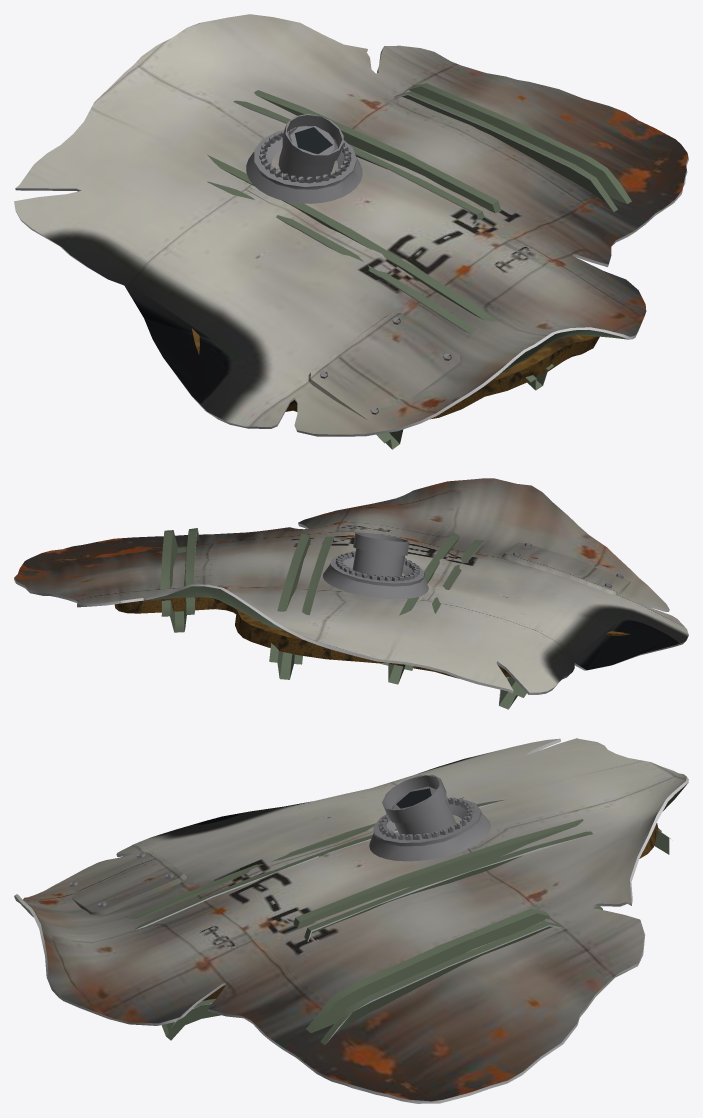
File: capsule_upper_shell_fragment_lod1.glb
The picture shows the model from 3 angles, top to bottom: view 1: azimuth 30°, elevation 25°; view 2: azimuth 150°, elevation 25°; view 3: azimuth 270°, elevation 25°; orthographic projection. The views are drawn at different scales.
Parts seen in each view (by area): view 1: capsule_upper_shell_fragment; view 2: capsule_upper_shell_fragment; view 3: capsule_upper_shell_fragment.
Part boxes in pixels (left/top/right/bottom): capsule_upper_shell_fragment: left=14, top=14, right=688, bottom=449; capsule_upper_shell_fragment: left=14, top=478, right=688, bottom=709; capsule_upper_shell_fragment: left=14, top=738, right=688, bottom=1103.
Size of the model in its own units: 1.18 by 0.365 by 1.06.
Materials: 6 (2 with a texture image).
